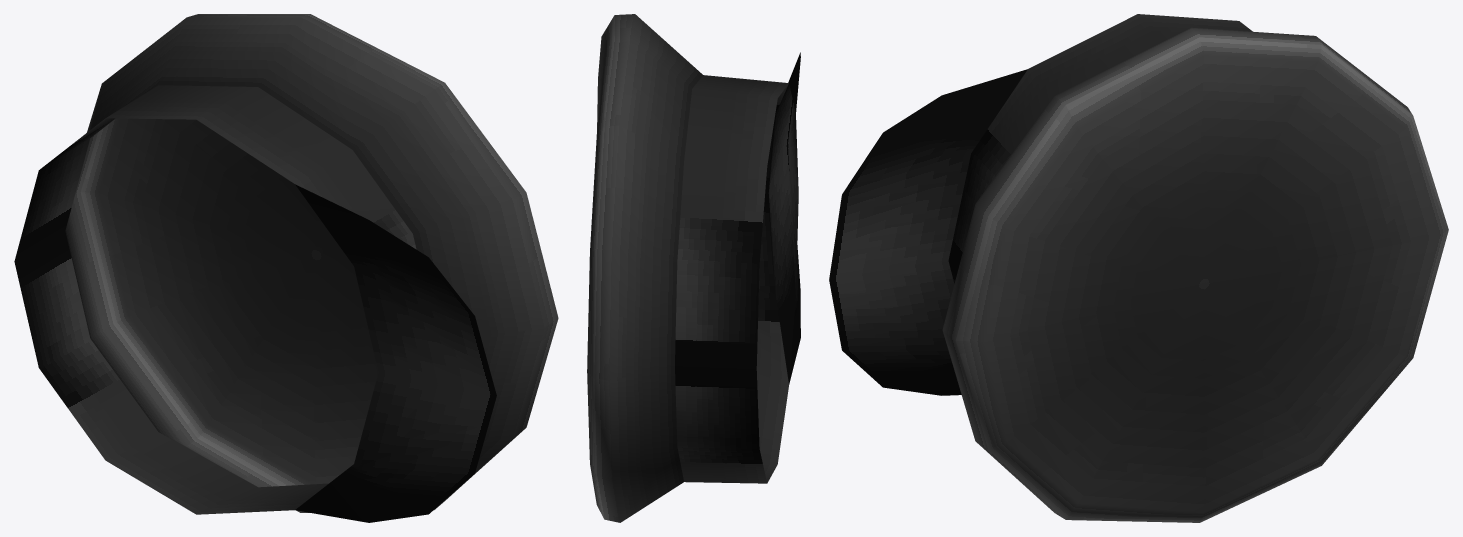
Rendered from cap_cap_police.dae.
The picture shows the model from 3 angles, left to right: view 1: azimuth 30°, elevation 25°; view 2: azimuth 150°, elevation 25°; view 3: azimuth 270°, elevation 25°; orthographic projection. The views are drawn at different scales.
Parts seen in each view (by area): view 1: cap_cap_police; view 2: cap_cap_police; view 3: cap_cap_police.
Boxes of the visible parts, x1,y1,x2,y2 form: cap_cap_police: [14, 14, 558, 522]; cap_cap_police: [587, 14, 800, 522]; cap_cap_police: [829, 14, 1448, 522].
Bounding box in the file's own units: 19.74 × 26.51 × 30.31.
Materials: 1 (1 with a texture image).
